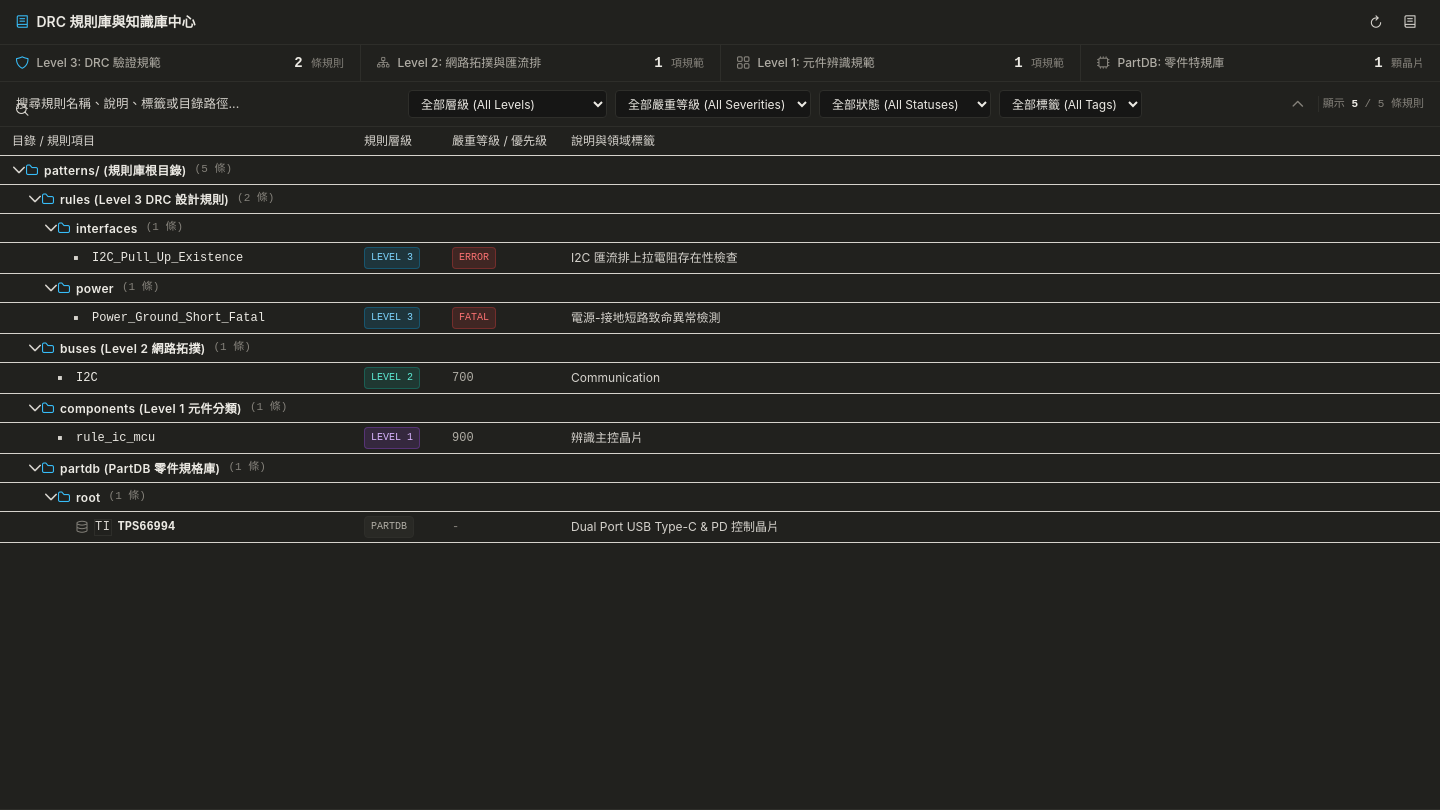
Scenario: RuleManagementView.vue › 支援點擊統計卡片或 Filter 快速聯動目錄樹過濾層級
Click the element with class "stat-card" showing "Level 1: 元件辨識規範 1 項規範" at (900, 63), box [720,45,1080,81]
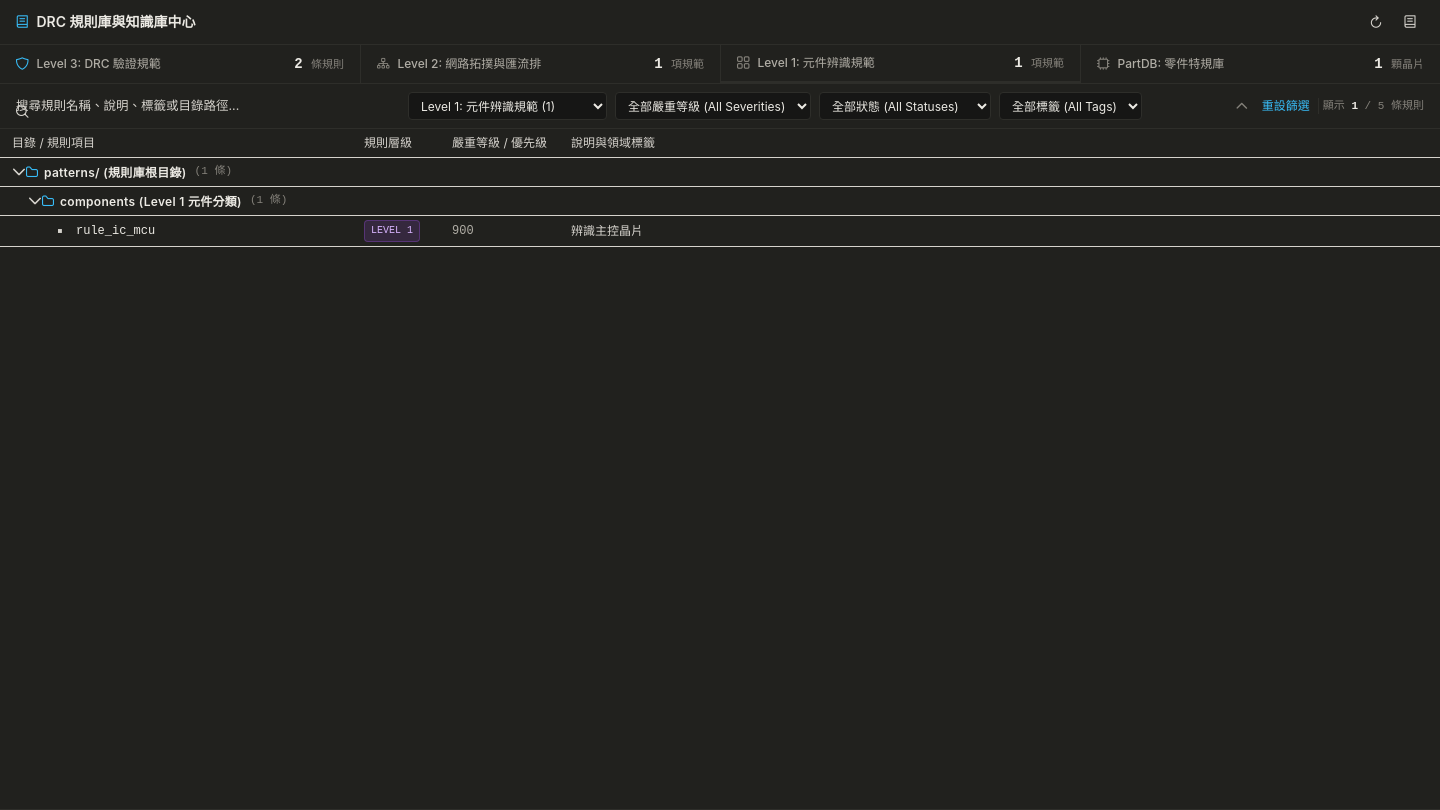
Expected: the text "rule_ic_mcu" is shown, [76,223,155,239]
Now the text "I2C_Pull_Up_Existence" is gone
// 點擊 Level 3 統計卡片恢復
Click the element with class "stat-card" showing "Level 3: DRC 驗證規範 2 條規則" at (99, 64), box [16,56,344,72]
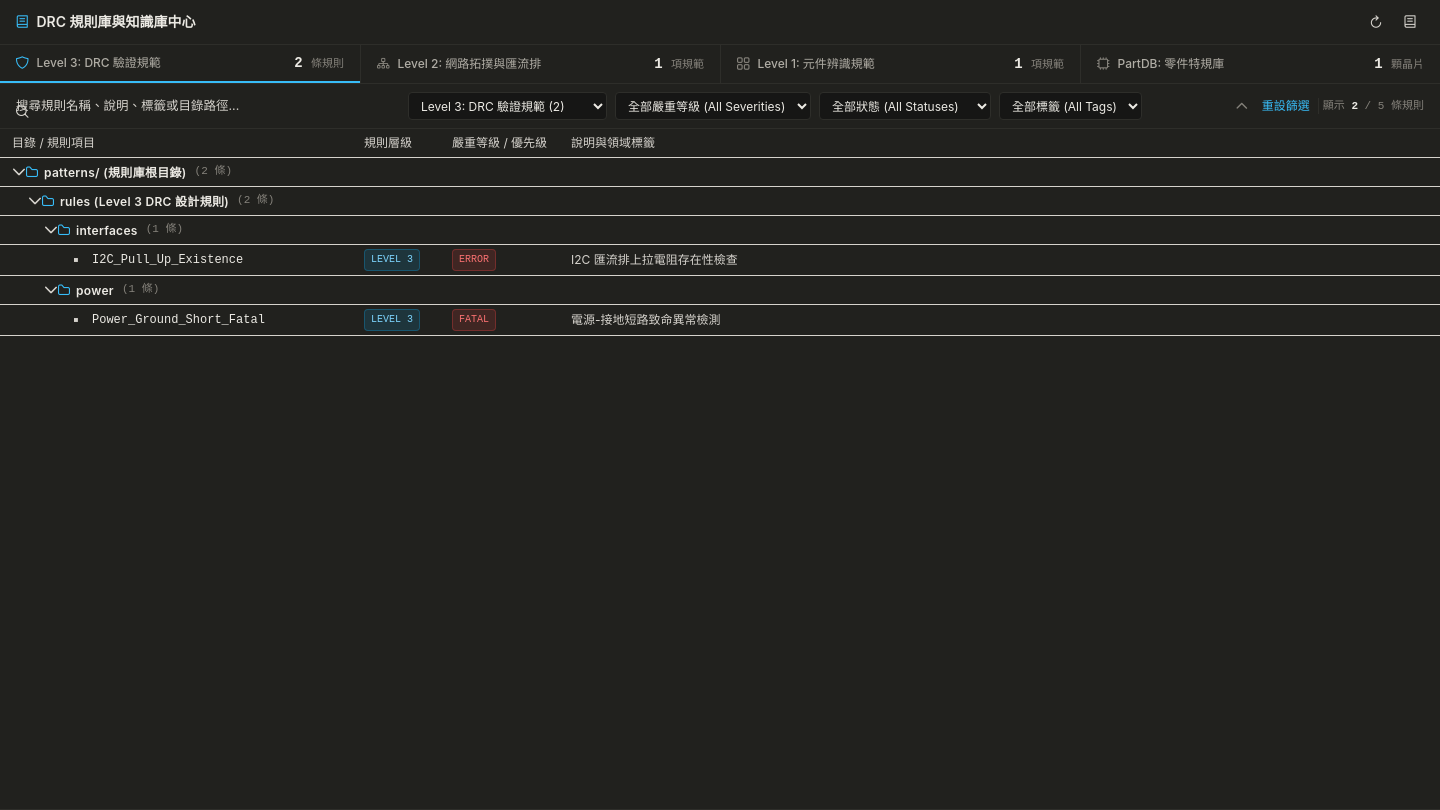
Now the text "I2C_Pull_Up_Existence" is shown, box [92,252,243,268]
Now the text "rule_ic_mcu" is gone
